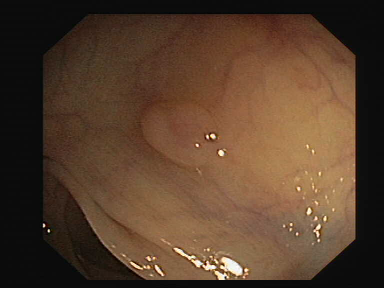polyp: (133, 85, 234, 179)
